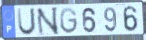6: (122, 5, 140, 34), (81, 6, 97, 34)
9: (103, 6, 118, 33)
G: (59, 7, 79, 35)
N: (36, 6, 60, 37)
U: (16, 7, 37, 37)
